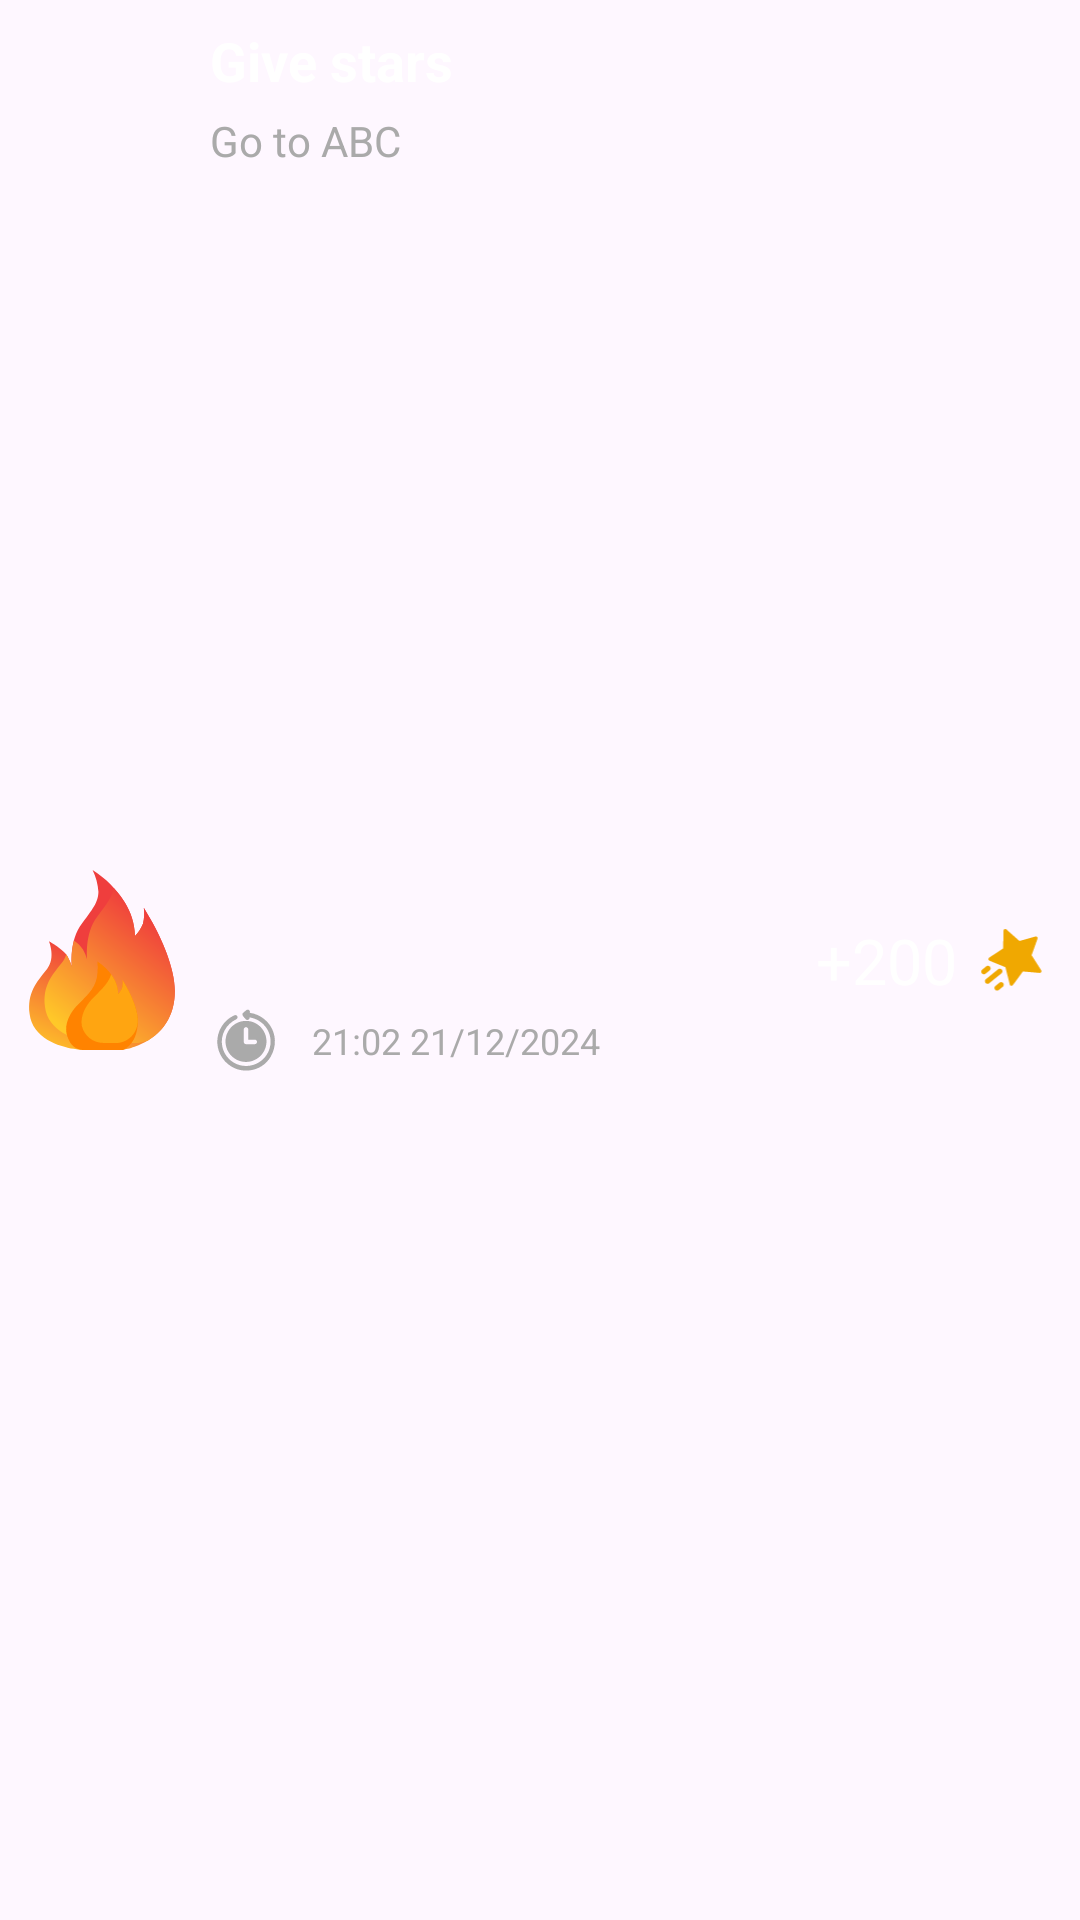

Where to tap for icons on this 1080x1920 app screen, as (x,y):
time clock: (246,1040)
